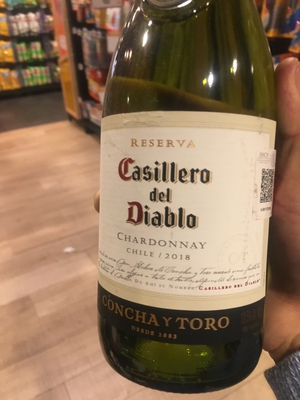casillero del diablo chardonnay: (99, 16, 278, 388)
